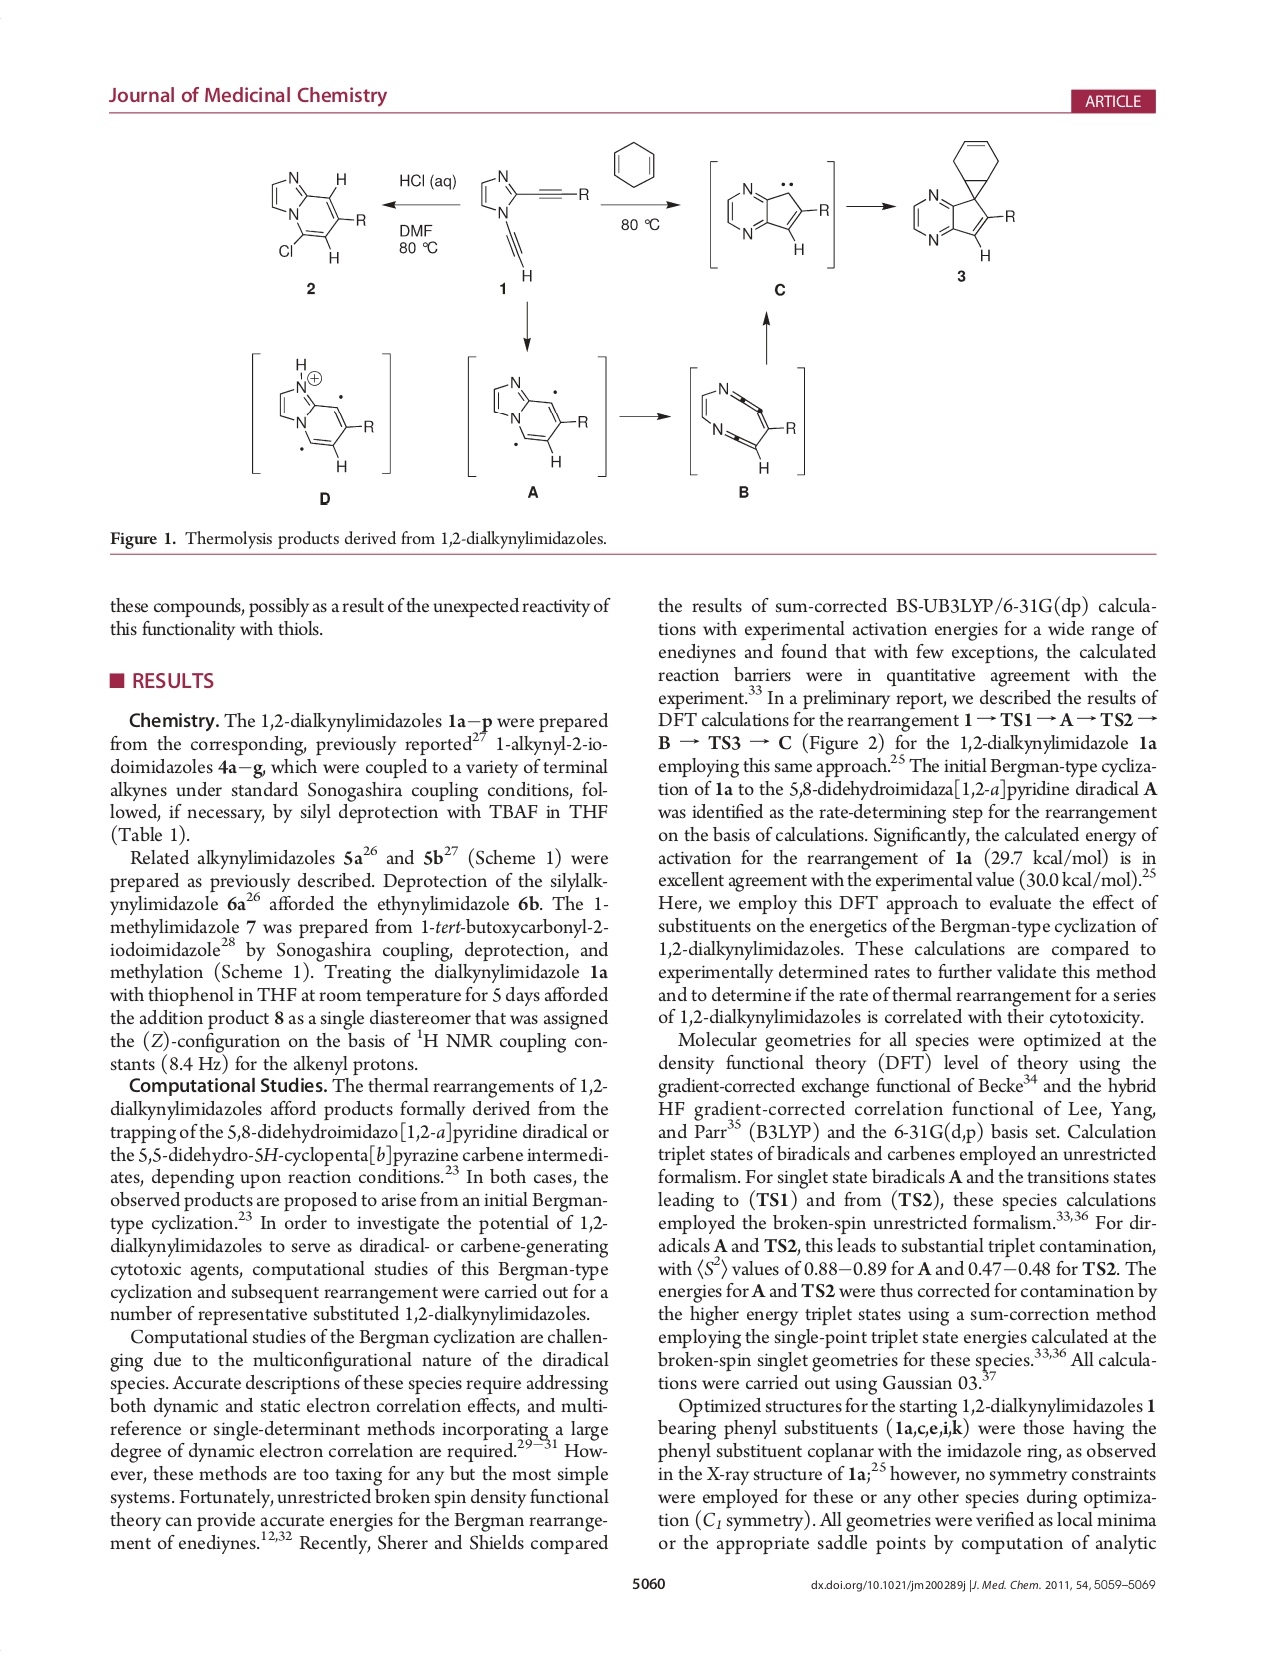exist_molecular: (910, 136, 1019, 263), (477, 168, 594, 283), (277, 352, 375, 473), (265, 169, 367, 267), (487, 372, 590, 469), (697, 379, 798, 476), (723, 181, 828, 257), (606, 134, 668, 194)
